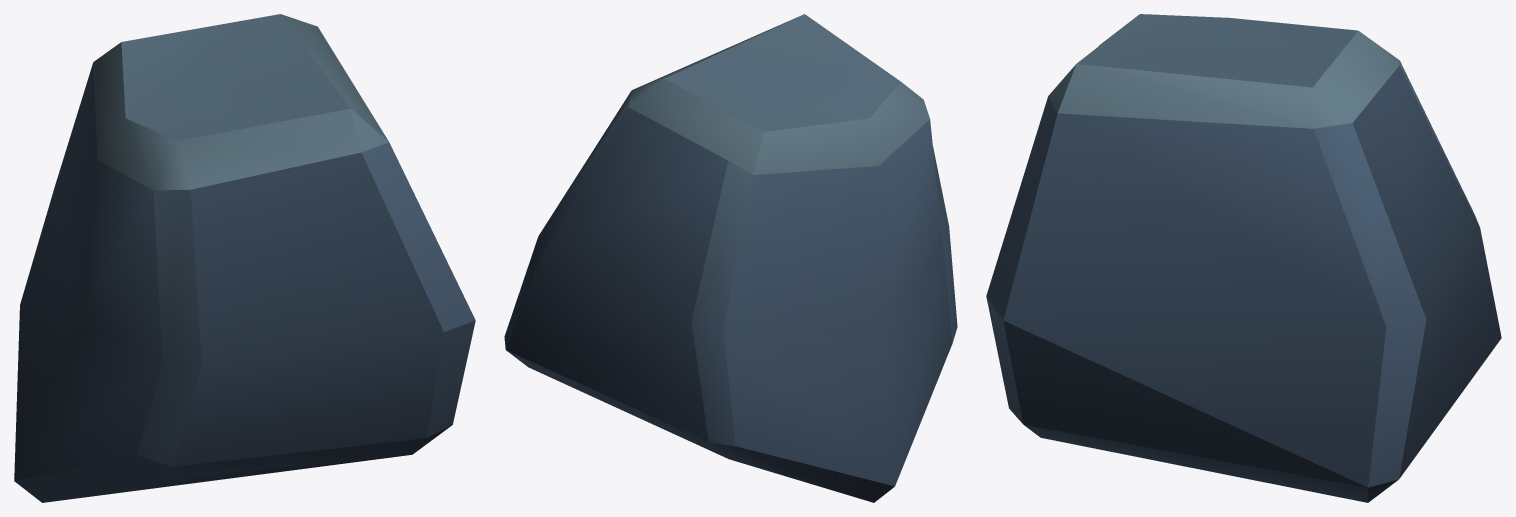
Rendered from rock_small_4.glb.
3 views of the same model, side by side, from view 1: azimuth 30°, elevation 25°; view 2: azimuth 150°, elevation 25°; view 3: azimuth 270°, elevation 25° (orthographic). The views are drawn at different scales.
Visible parts, largest first — view 1: rock_small_4; view 2: rock_small_4; view 3: rock_small_4.
Boxes of the visible parts, x1,y1,x2,y2 form: rock_small_4: [14, 14, 475, 502]; rock_small_4: [504, 14, 957, 502]; rock_small_4: [986, 14, 1501, 502].
Bounding box in the file's own units: 0.8312 × 0.8097 × 0.859.
Materials: 1 (1 with a texture image).
